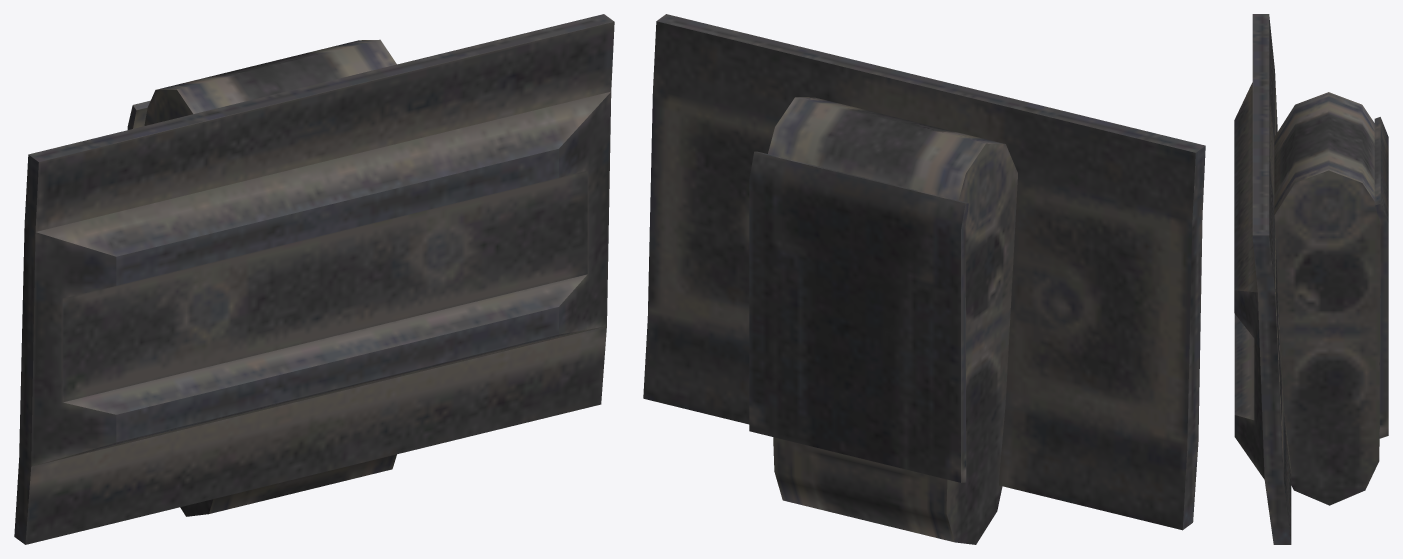
3 views of the same model, side by side, from view 1: azimuth 30°, elevation 25°; view 2: azimuth 150°, elevation 25°; view 3: azimuth 270°, elevation 25° (orthographic). The views are drawn at different scales.
Parts seen in each view (by area): view 1: set_0_group_0; view 2: set_0_group_0; view 3: set_0_group_0.
Part boxes in pixels (<box>): set_0_group_0: <box>14,14,614,544</box>; set_0_group_0: <box>643,14,1205,544</box>; set_0_group_0: <box>1234,14,1388,544</box>.
Bounding box in the file's own units: 0.2999 × 0.2182 × 0.0881.
1 material, 1 textured.
